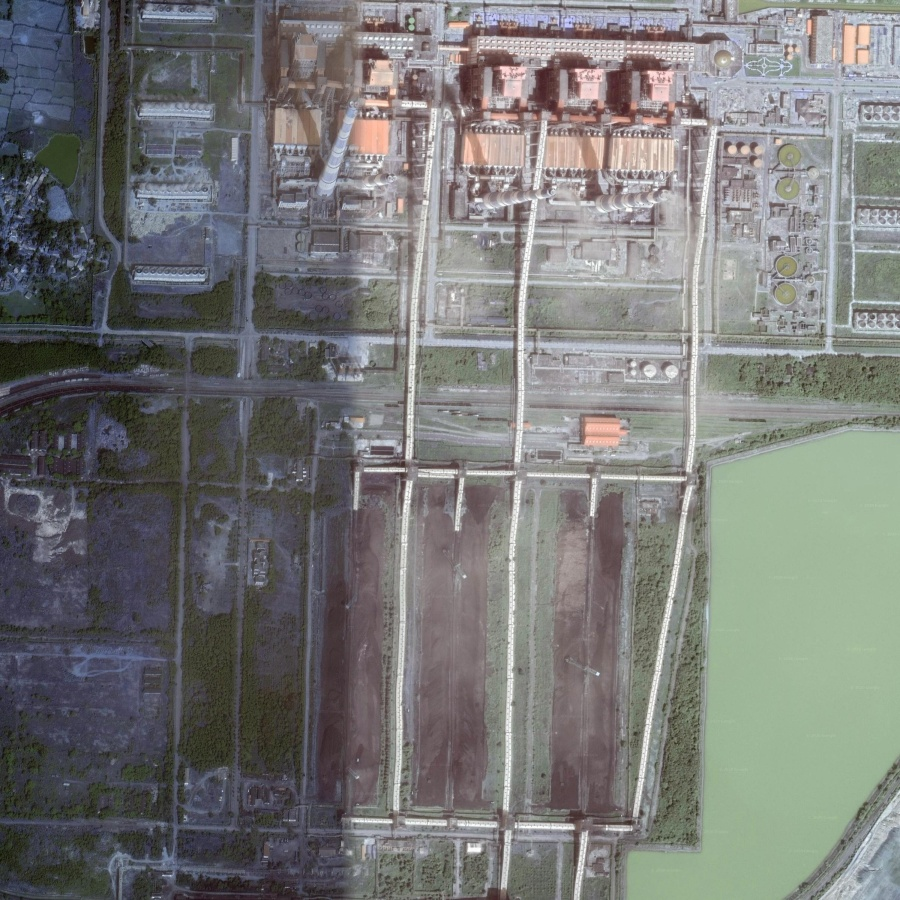PowerPlant: (307, 449, 666, 844)
